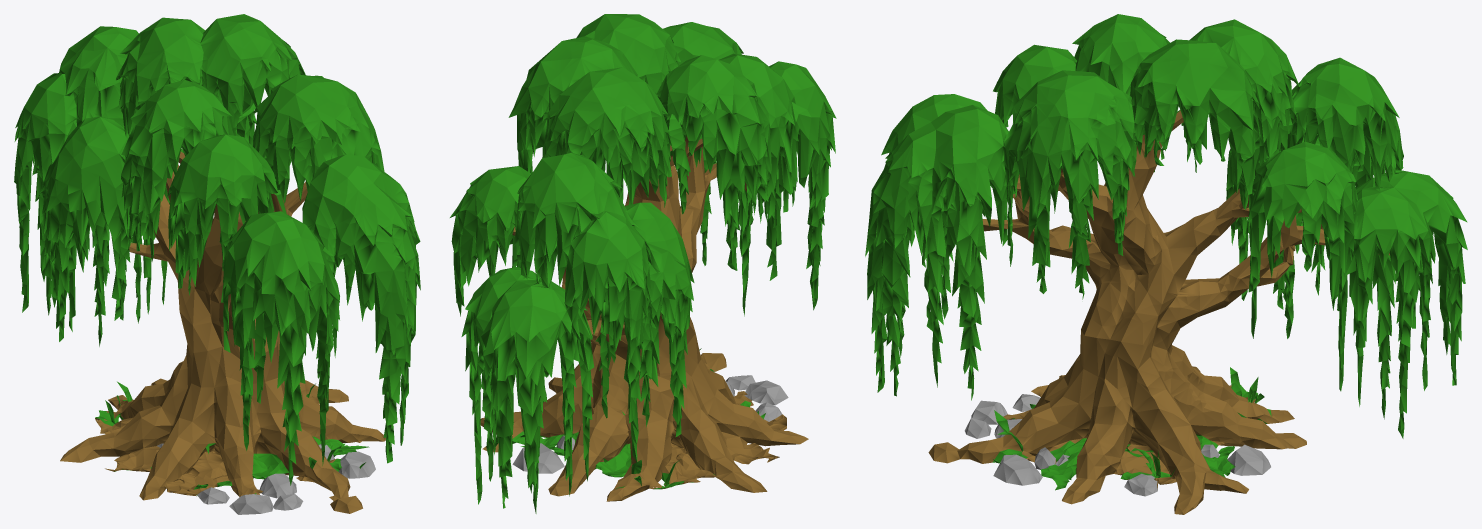
Rendered from tree_2.glb.
3 views of the same model, side by side, from view 1: azimuth 30°, elevation 25°; view 2: azimuth 150°, elevation 25°; view 3: azimuth 270°, elevation 25° (orthographic). The views are drawn at different scales.
Parts seen in each view (by area): view 1: tree 2; view 2: tree 2; view 3: tree 2.
Part boxes in pixels (left/top/right/bottom): tree 2: left=14, top=14, right=420, bottom=514; tree 2: left=450, top=14, right=836, bottom=513; tree 2: left=865, top=14, right=1467, bottom=514.
Bounding box in the file's own units: 10.97 × 14.62 × 19.14.
